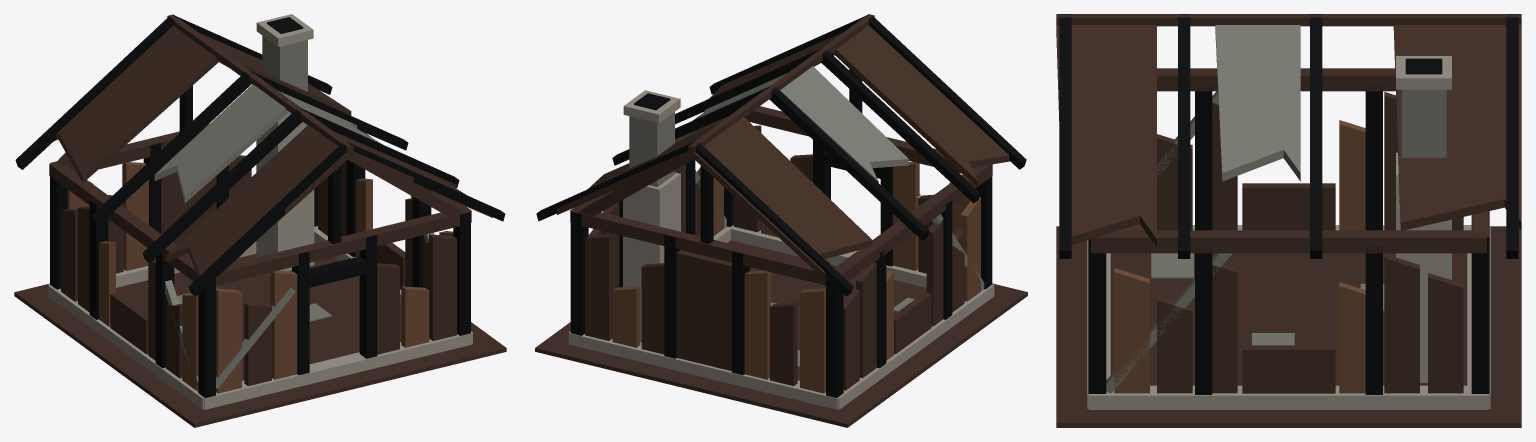
File: burnt-house.glb
The picture shows the model from 3 angles, left to right: view 1: azimuth 30°, elevation 25°; view 2: azimuth 150°, elevation 25°; view 3: azimuth 270°, elevation 25°; orthographic projection. The views are drawn at different scales.
Visible parts, largest first — view 1: burnt_house_roof_left, burnt_house_wall_front, burnt_house_base, burnt_house_wall_left, burnt_house_wall_back, burnt_house_roof_right, burnt_house_chimney, burnt_house_wall_right; view 2: burnt_house_roof_left, burnt_house_wall_back, burnt_house_base, burnt_house_wall_left, burnt_house_wall_front, burnt_house_roof_right, burnt_house_chimney, burnt_house_wall_right; view 3: burnt_house_roof_right, burnt_house_base, burnt_house_wall_right, burnt_house_wall_left, burnt_house_chimney, burnt_house_roof_left, burnt_house_wall_back, burnt_house_wall_front.
Boxes of the visible parts, box(x1,y1,x2,y2) form: burnt_house_roof_left: box(15, 14, 353, 296); burnt_house_wall_front: box(198, 157, 470, 398); burnt_house_base: box(14, 226, 506, 427); burnt_house_wall_left: box(49, 163, 198, 391); burnt_house_wall_back: box(50, 61, 317, 289); burnt_house_roof_right: box(167, 15, 505, 221); burnt_house_chimney: box(256, 14, 314, 271); burnt_house_wall_right: box(318, 131, 471, 289); burnt_house_roof_left: box(688, 14, 1026, 296); burnt_house_wall_back: box(570, 156, 843, 397); burnt_house_base: box(535, 225, 1027, 427); burnt_house_wall_left: box(835, 164, 992, 390); burnt_house_wall_front: box(724, 53, 992, 289); burnt_house_roof_right: box(536, 15, 873, 221); burnt_house_chimney: box(623, 90, 680, 341); burnt_house_wall_right: box(570, 114, 728, 289); burnt_house_roof_right: box(1056, 17, 1521, 258); burnt_house_base: box(1056, 225, 1521, 427); burnt_house_wall_right: box(1091, 230, 1486, 394); burnt_house_wall_left: box(1120, 68, 1463, 230); burnt_house_chimney: box(1396, 56, 1451, 382); burnt_house_roof_left: box(1056, 14, 1521, 26); burnt_house_wall_back: box(1471, 211, 1489, 393); burnt_house_wall_front: box(1088, 234, 1106, 393).
Bounding box in the file's own units: 2 × 1.49 × 2.
